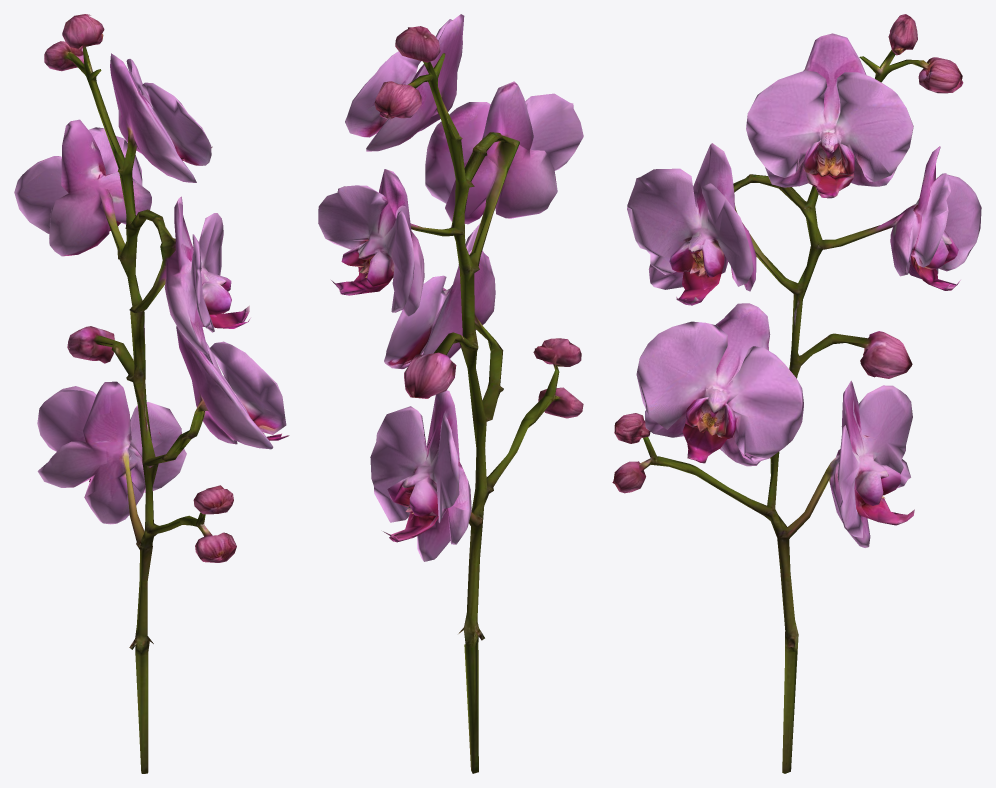
File: Orchid 2.glb
3 views of the same model, side by side, from view 1: azimuth 30°, elevation 25°; view 2: azimuth 150°, elevation 25°; view 3: azimuth 270°, elevation 25° (orthographic). The views are drawn at different scales.
Parts seen in each view (by area): view 1: tripo_node_5a4e51f5-08ff-438a-a009-c3f01b23706b; view 2: tripo_node_5a4e51f5-08ff-438a-a009-c3f01b23706b; view 3: tripo_node_5a4e51f5-08ff-438a-a009-c3f01b23706b.
Part boxes in pixels (left/top/right/bottom): tripo_node_5a4e51f5-08ff-438a-a009-c3f01b23706b: left=14, top=14, right=289, bottom=773; tripo_node_5a4e51f5-08ff-438a-a009-c3f01b23706b: left=318, top=14, right=583, bottom=773; tripo_node_5a4e51f5-08ff-438a-a009-c3f01b23706b: left=612, top=14, right=981, bottom=773.
Size of the model in its own units: 0.2128 by 0.9805 by 0.4367.
Materials: 1 (1 with a texture image).
